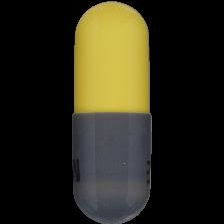66336-377: (0, 0, 224, 224)
